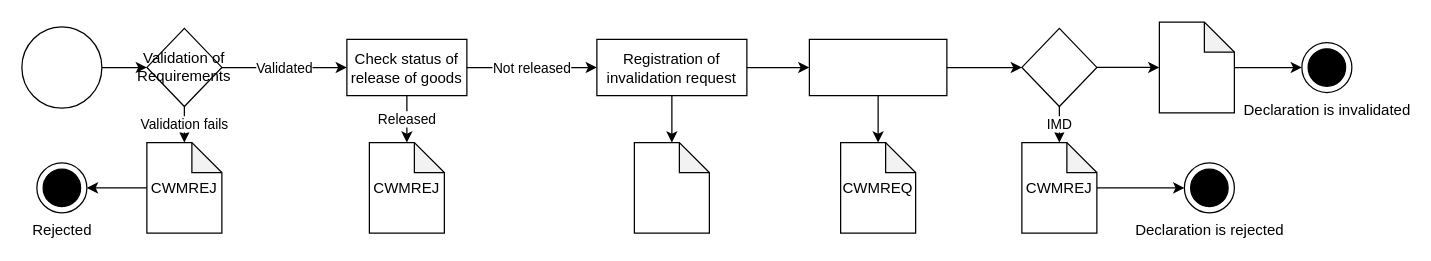
This 1431x261 diagram has some shape labels left out. Here are the shapes that lost their labels. From the top down, the centre of each, then its label:
point (61, 67): Start
point (877, 67): Customs Position
point (1059, 66): IMA or IMD?
point (1196, 67): CWMINV
point (671, 187): CWMRCV
